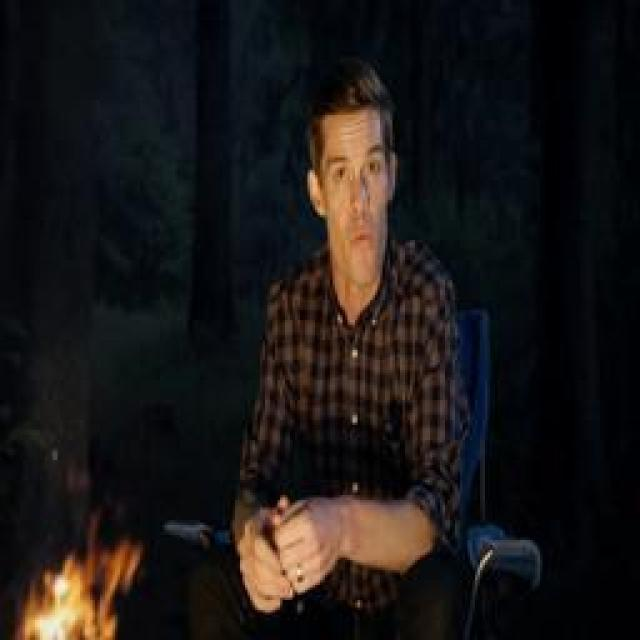Fire: (15, 537, 140, 640)
